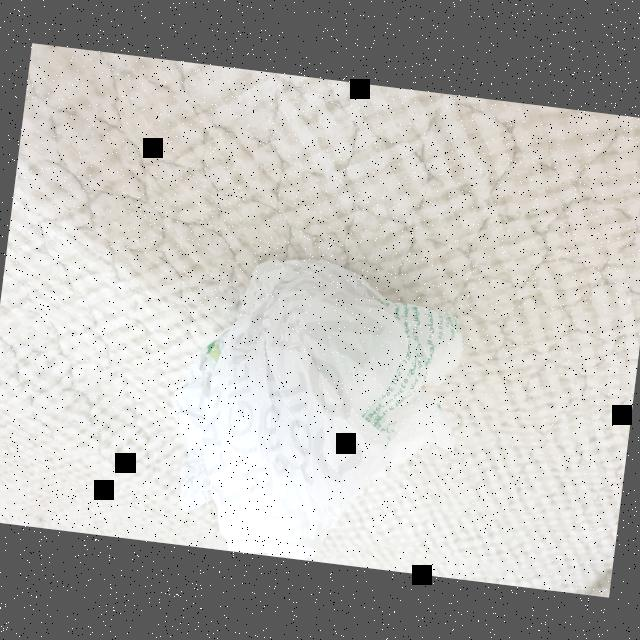plastic_bag: (140, 222, 486, 578)
